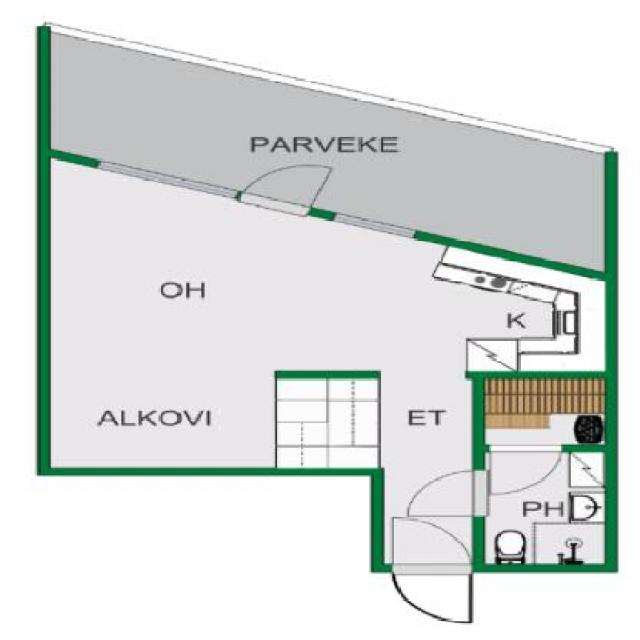door: (383, 517, 475, 628), (246, 156, 329, 222), (398, 469, 488, 520), (486, 446, 557, 496)
window: (96, 158, 242, 202), (326, 212, 423, 242)
zone: (31, 31, 615, 477), (380, 451, 606, 562), (480, 383, 600, 445)
